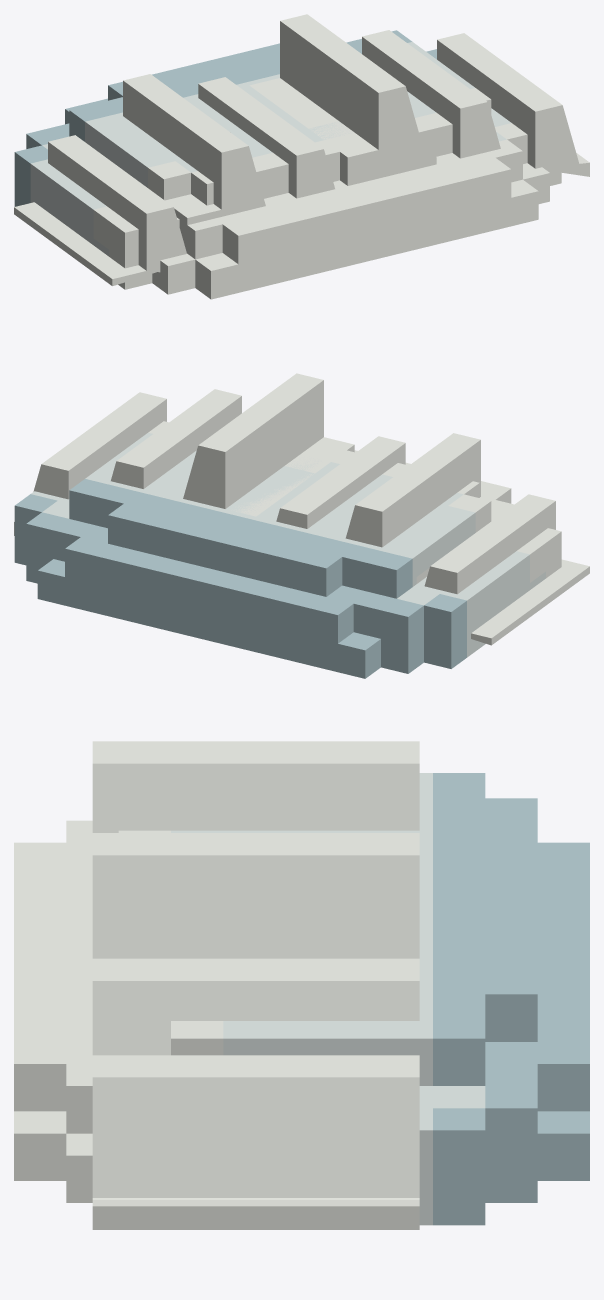
The model's file is mystic_yeti_hair.glb.
The picture shows the model from 3 angles, top to bottom: view 1: azimuth 30°, elevation 25°; view 2: azimuth 150°, elevation 25°; view 3: azimuth 270°, elevation 25°; orthographic projection. The views are drawn at different scales.
Visible parts, largest first — view 1: mystic_yeti_Hair.001; view 2: mystic_yeti_Hair.001; view 3: mystic_yeti_Hair.001.
Part boxes in pixels (<box>): mystic_yeti_Hair.001: <box>14,14,589,299</box>; mystic_yeti_Hair.001: <box>14,373,589,678</box>; mystic_yeti_Hair.001: <box>14,741,589,1229</box>.
Size of the model in its own units: 0.7 by 0.4 by 0.44.
Materials: 4 (4 with a texture image).
